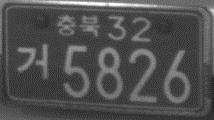2: (129, 47, 158, 103), (131, 16, 152, 43)
3: (106, 15, 126, 40)
5: (62, 44, 90, 98)
6: (163, 48, 191, 104)
8: (95, 46, 123, 100)
거: (15, 43, 49, 81)
충북_O: (56, 14, 100, 38)
